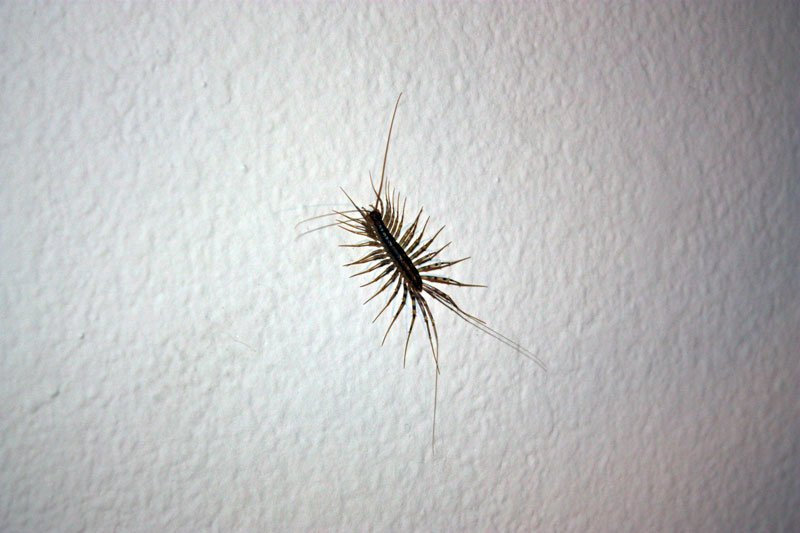centipede: (295, 142, 531, 372)
